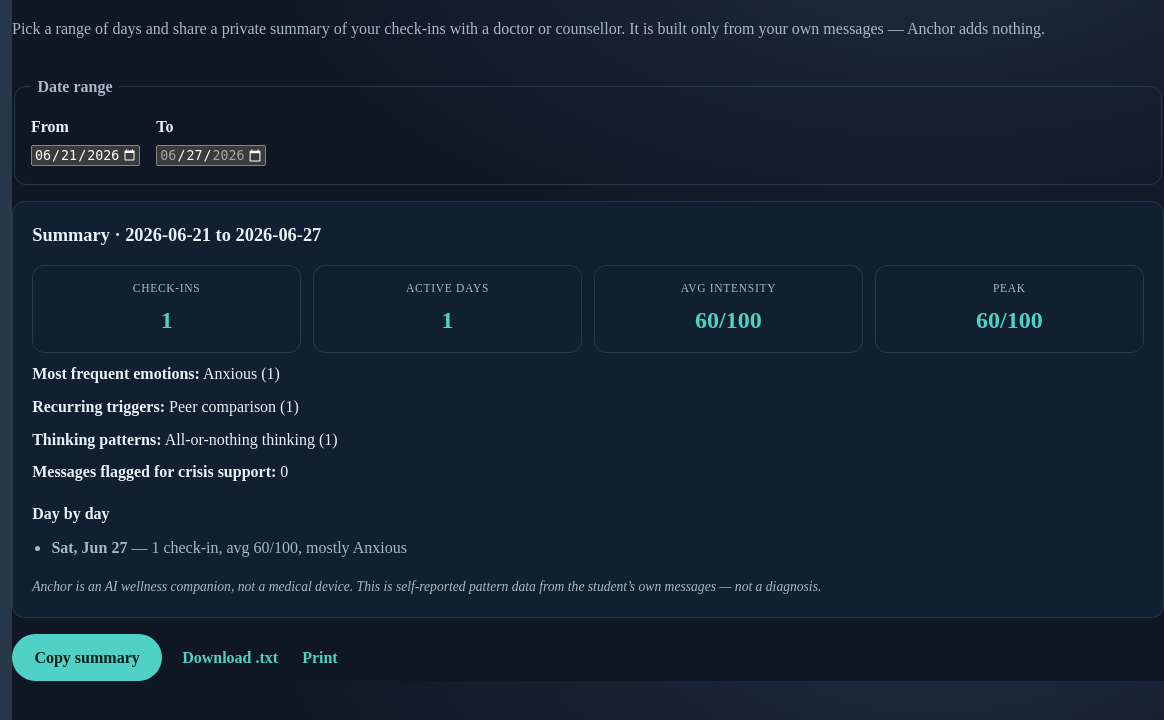
Scenario: DoctorReport › copies the summary to the clipboard
What coordinates should you click on to do the following:
click the button "Copy summary"
I would click on:
 (87, 657)
Its box is [12,634,162,681].
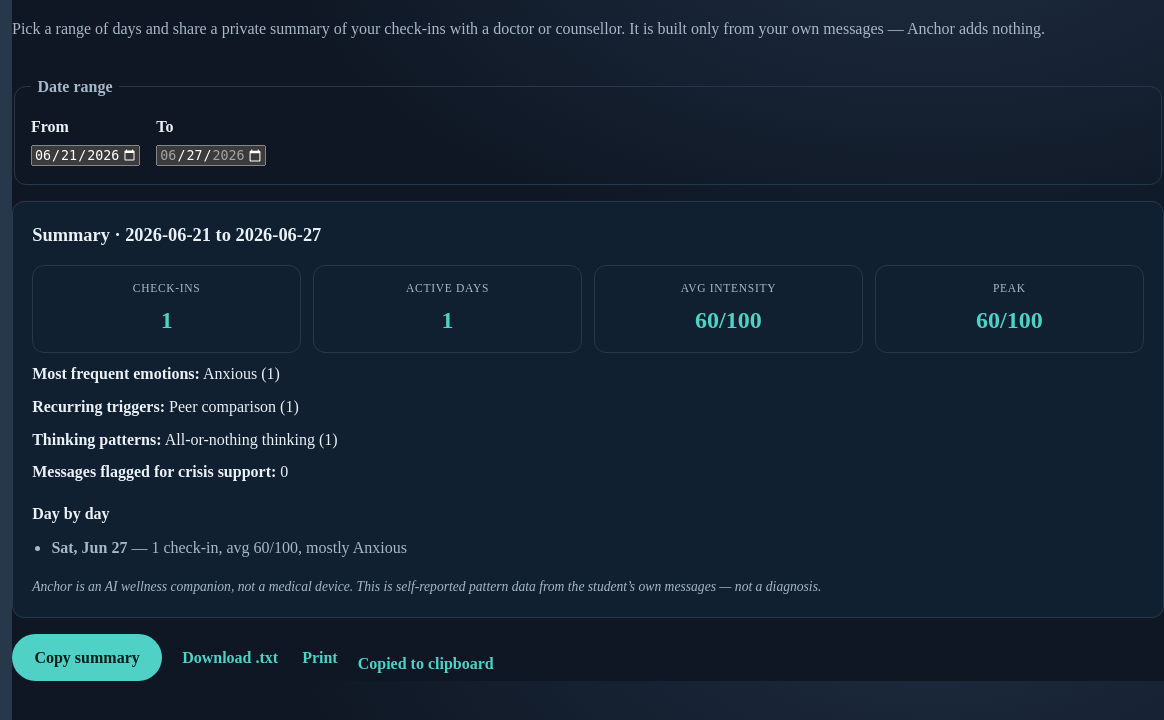
Check: the text "Copied to clipboard" is shown, box [358,651,494,677]
